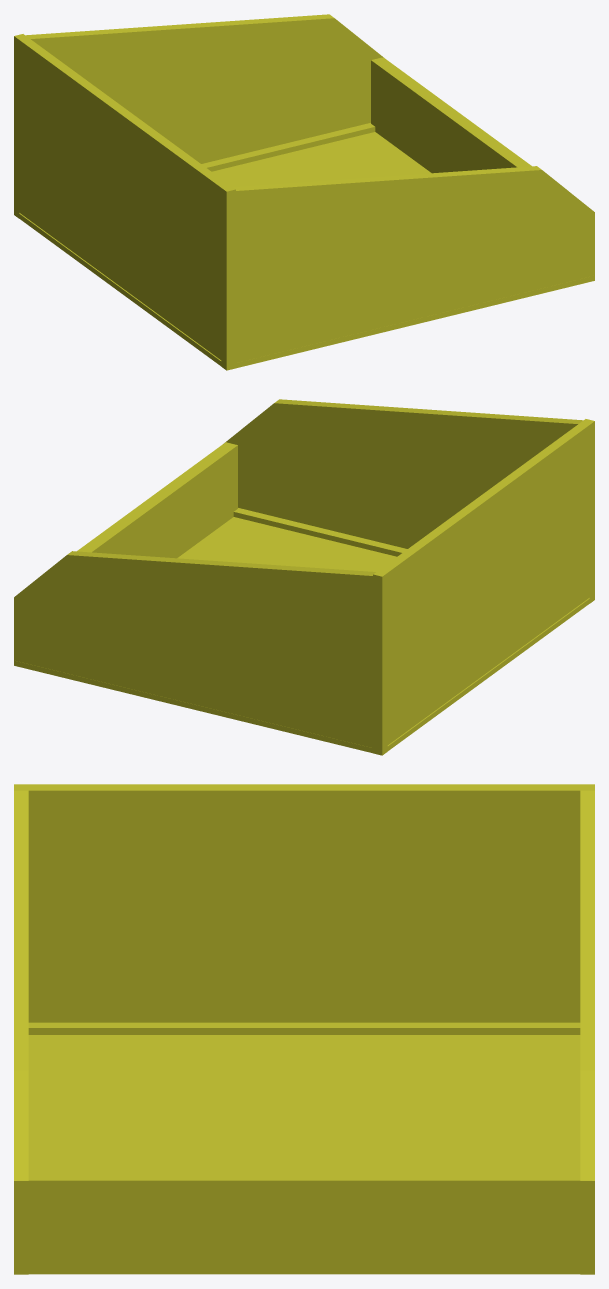
Rendered from bin8.glb.
The picture shows the model from 3 angles, top to bottom: view 1: azimuth 30°, elevation 25°; view 2: azimuth 150°, elevation 25°; view 3: azimuth 270°, elevation 25°; orthographic projection. The views are drawn at different scales.
Parts seen in each view (by area): view 1: bin, facebin; view 2: bin, facebin; view 3: bin, facebin.
Boxes of the visible parts, x1,y1,x2,y2 form: bin: [14, 14, 594, 370]; facebin: [371, 57, 531, 173]; bin: [14, 399, 594, 755]; facebin: [77, 442, 237, 558]; bin: [14, 784, 594, 1274]; facebin: [17, 1172, 591, 1267].
Bounding box in the file's own units: 0.56 × 0.26 × 0.56.
